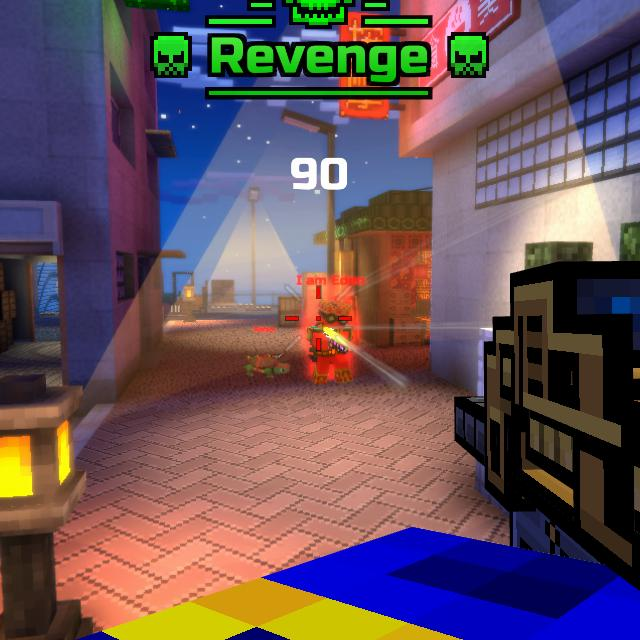Enemy: (308, 300, 358, 384)
